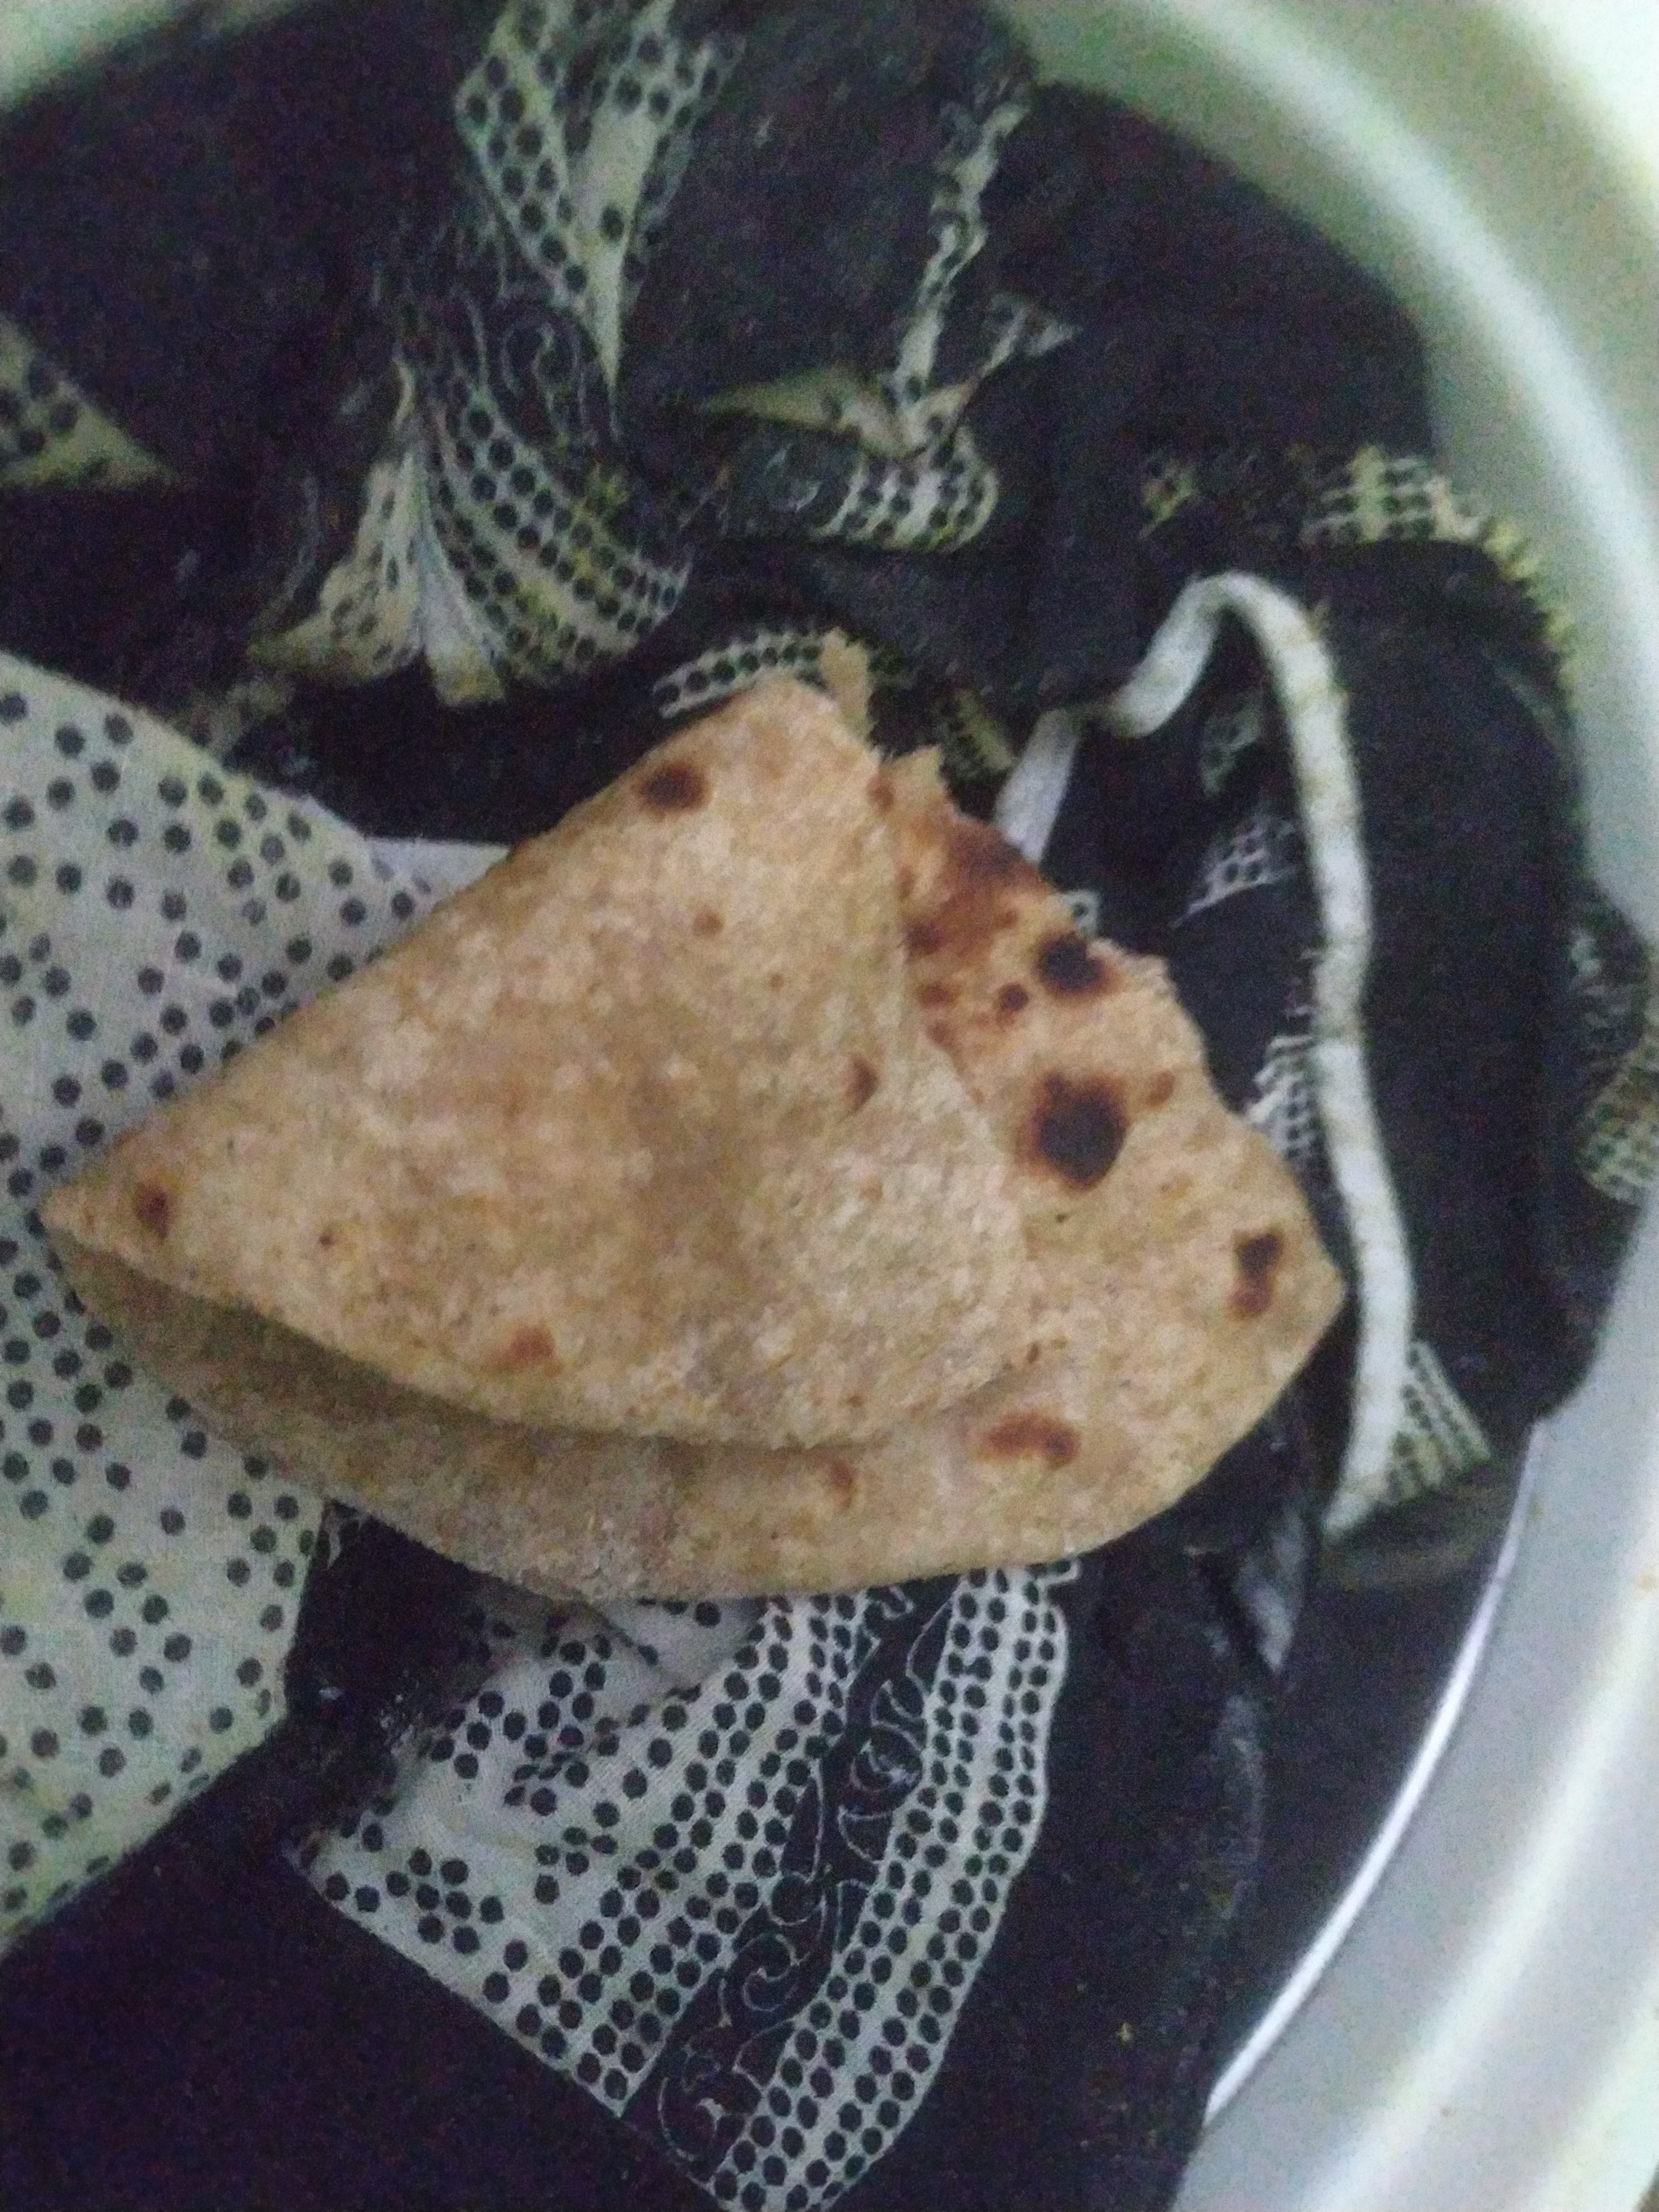food: (30, 658, 1354, 1618)
